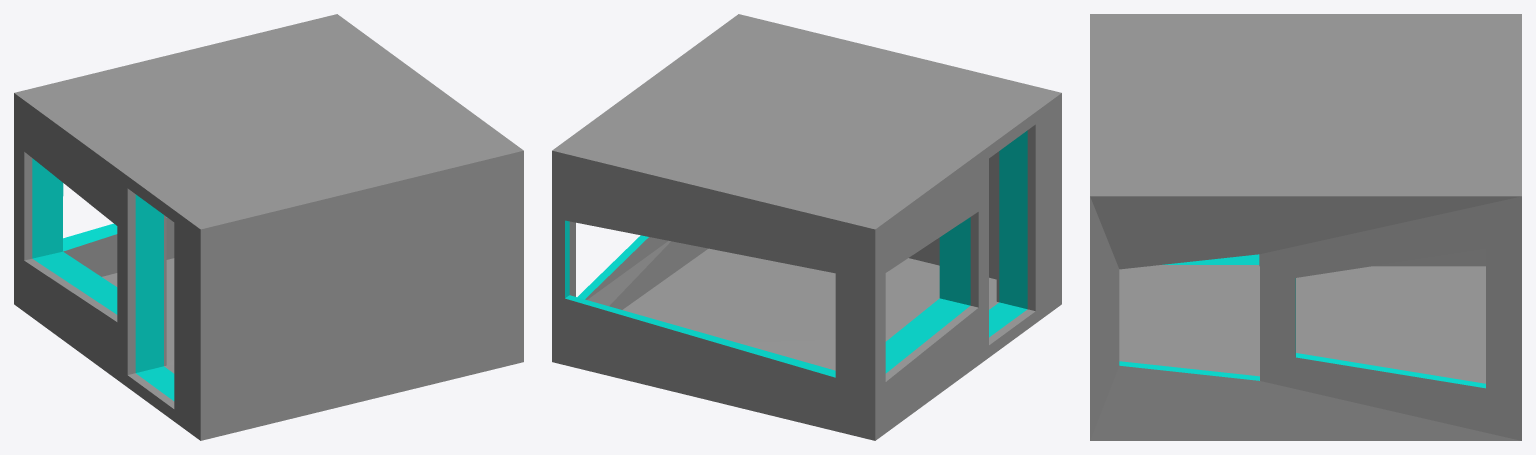
The model's file is lab.fbx.
3 views of the same model, side by side, from view 1: azimuth 30°, elevation 25°; view 2: azimuth 150°, elevation 25°; view 3: azimuth 270°, elevation 25° (orthographic). The views are drawn at different scales.
Parts seen in each view (by area): view 1: Lab; view 2: Lab; view 3: Lab.
Boxes of the visible parts, bbox=[...] form: Lab: bbox=[14, 14, 523, 440]; Lab: bbox=[552, 14, 1061, 440]; Lab: bbox=[1090, 14, 1521, 440].
Size of the model in its own units: 400 by 250 by 400.
